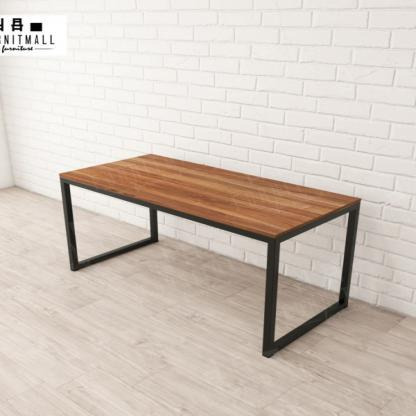table: (54, 145, 367, 364)
